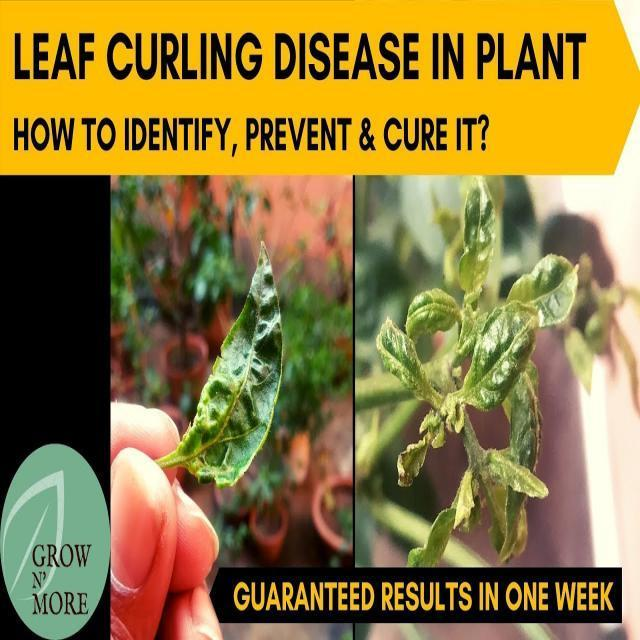Yellow Curl Virus: (179, 234, 295, 496), (457, 302, 535, 404), (376, 311, 440, 413), (507, 257, 582, 331), (458, 174, 496, 292), (397, 278, 459, 342)
